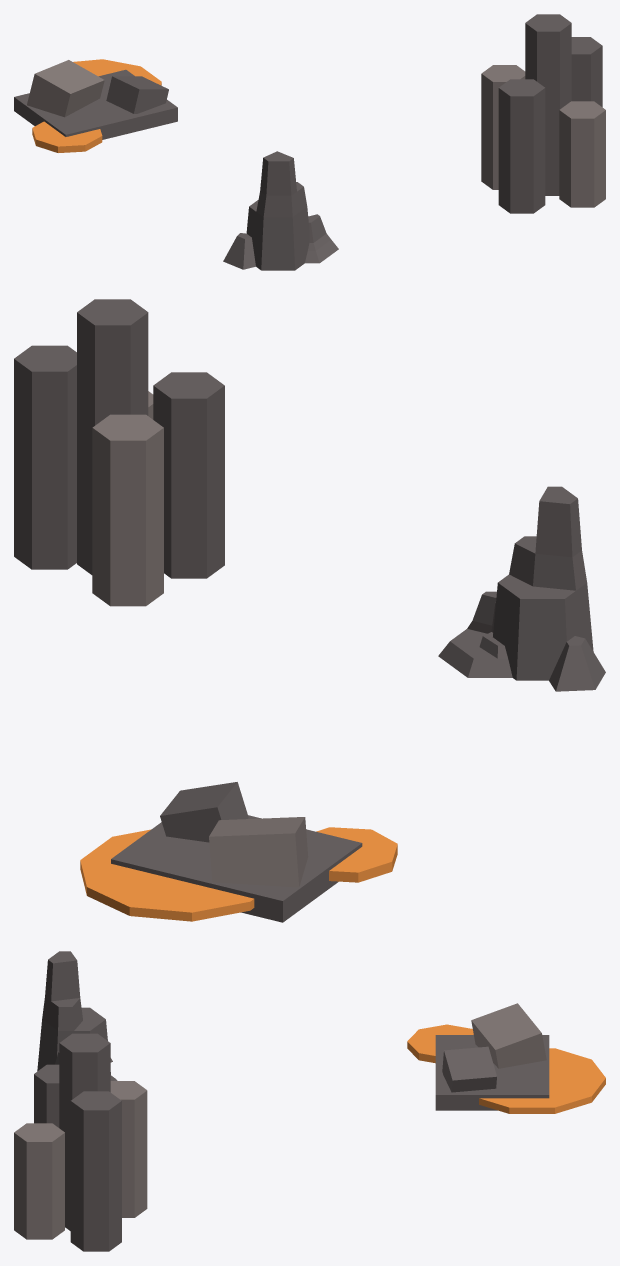
File: decor_lava.glb
3 views of the same model, one above another, from view 1: azimuth 30°, elevation 25°; view 2: azimuth 150°, elevation 25°; view 3: azimuth 270°, elevation 25° (orthographic). The views are drawn at different scales.
Visible parts, largest first — view 1: Sutun, Kalinti, Kaya; view 2: Sutun, Kalinti, Kaya; view 3: Sutun, Kalinti, Kaya.
Part boxes in pixels (<box>): Sutun: <box>481,14,605,213</box>; Kalinti: <box>14,59,177,152</box>; Kaya: <box>223,151,338,270</box>; Sutun: <box>14,299,224,606</box>; Kalinti: <box>80,782,397,922</box>; Kaya: <box>438,486,605,691</box>; Sutun: <box>14,1033,147,1251</box>; Kalinti: <box>407,1003,605,1113</box>; Kaya: <box>37,951,117,1080</box>.
Bounding box in the file's own units: 17.87 × 7 × 20.85.
